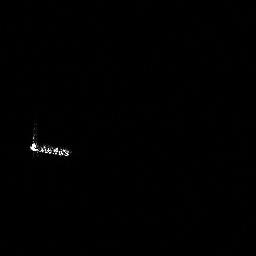ship: (25, 129, 75, 160)
